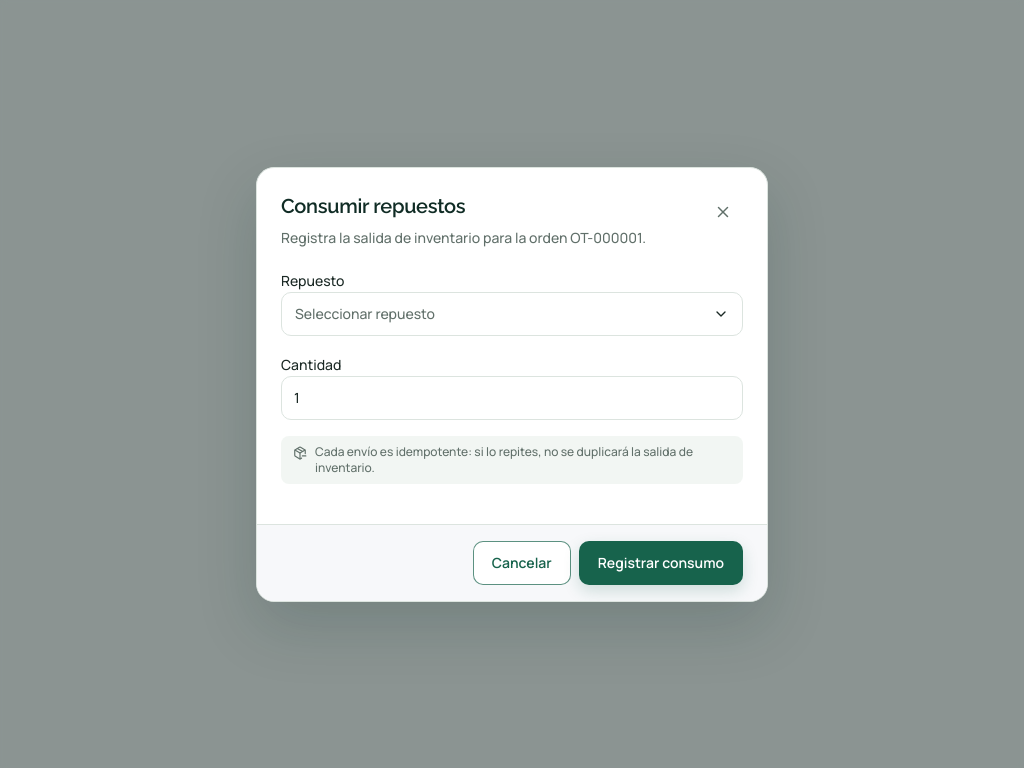
Test: Modal de consumo de repuestos (QA-06) › muestra los productos con cantidad pendiente por consumir
Click the button with aria-label "Repuesto a consumir" at point(365, 313), box [281, 292, 743, 336]
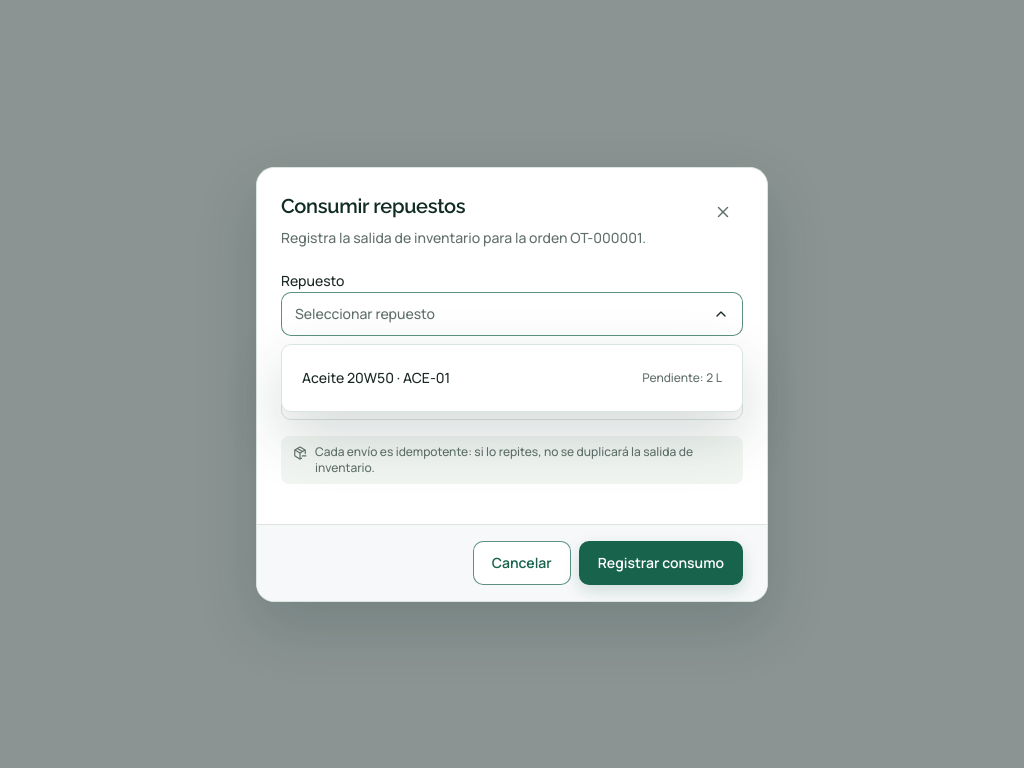
Expected: the text "Aceite 20W50 · ACE-01" is shown, [302, 368, 450, 386]
